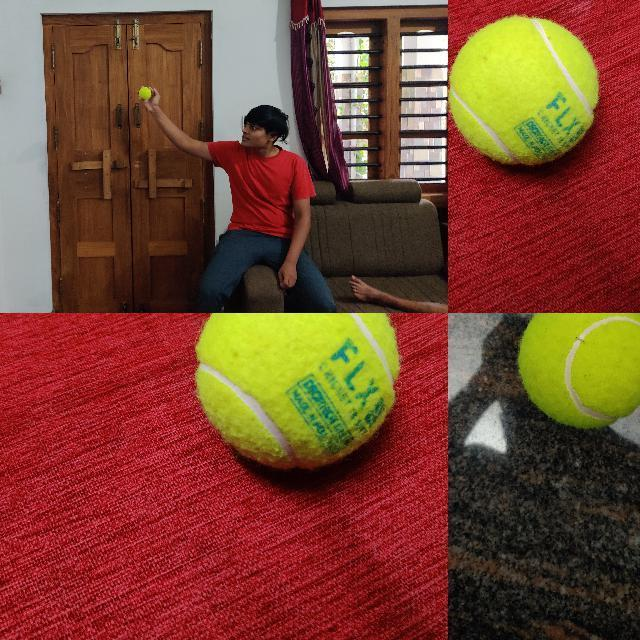tennis-ball: (195, 313, 402, 470), (448, 13, 600, 165), (516, 313, 639, 429), (139, 87, 152, 100)
